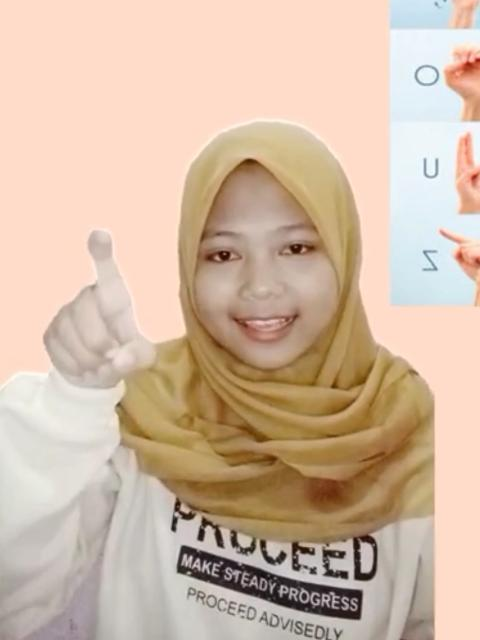X: (36, 219, 162, 393)
